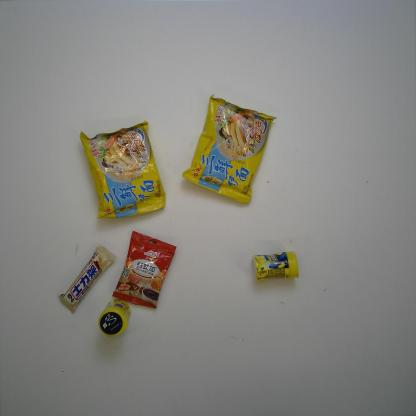Chocolate: (58, 244, 117, 314)
Gum: (252, 250, 299, 282), (98, 299, 132, 338)
Instant Drink: (112, 230, 176, 309)
Instant Noodles: (181, 93, 277, 204), (80, 119, 166, 219)
